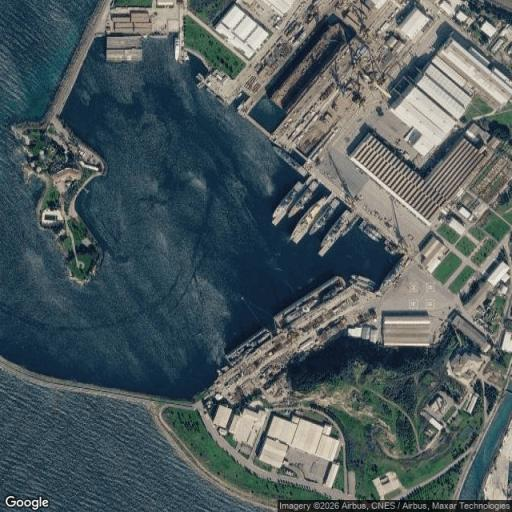ship: (289, 196, 326, 242), (272, 145, 309, 177), (309, 198, 340, 236), (289, 181, 319, 219), (272, 181, 302, 218), (321, 209, 350, 247), (342, 215, 360, 239), (349, 279, 374, 291), (351, 274, 376, 285), (366, 225, 384, 239), (384, 239, 400, 253), (364, 229, 380, 240), (174, 38, 180, 62), (384, 246, 395, 255), (238, 101, 244, 110), (237, 92, 242, 98), (360, 223, 364, 229), (359, 226, 363, 231), (362, 222, 366, 227), (363, 220, 367, 224)
